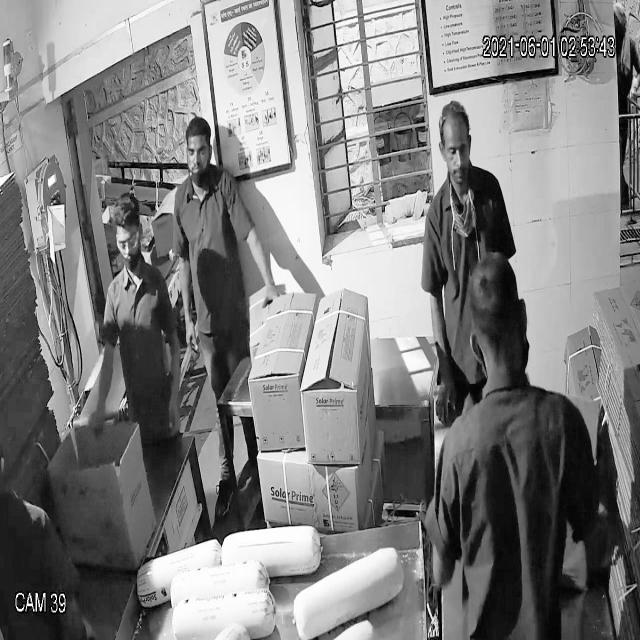glasses: (111, 216, 143, 260)
no-glass: (436, 132, 476, 166), (180, 132, 218, 166)
